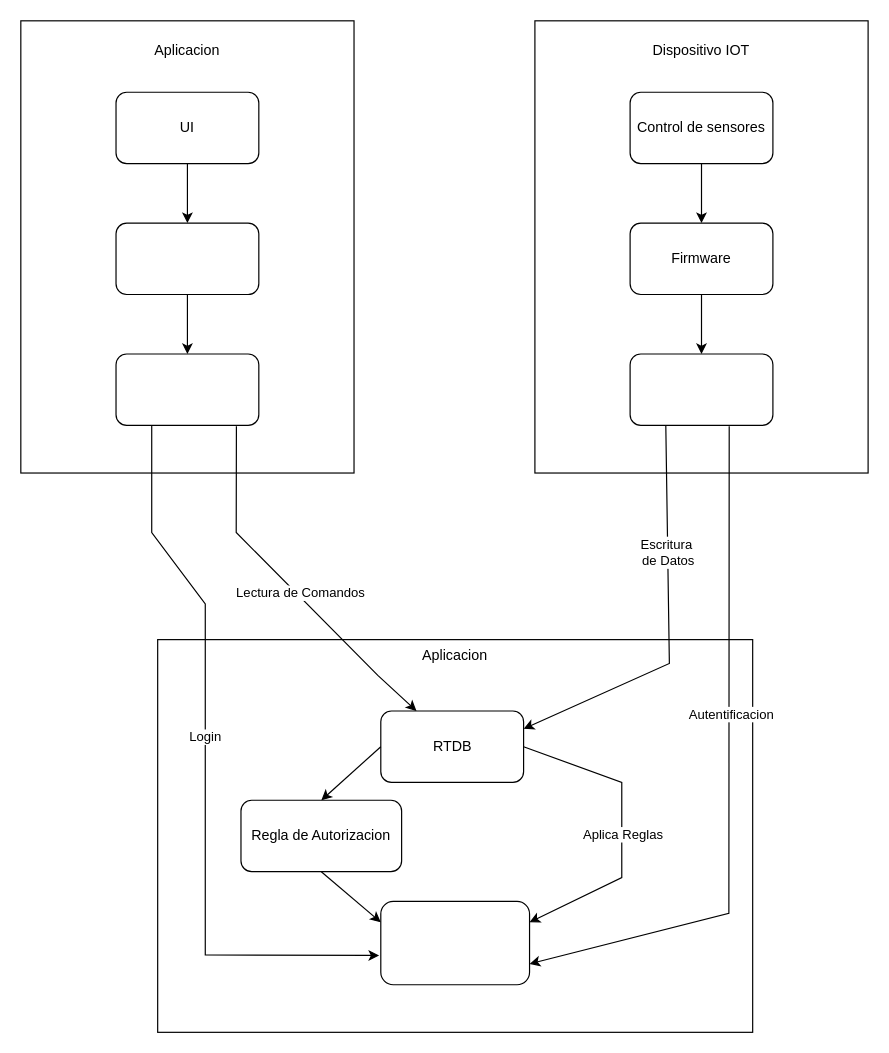
This 889x1053 diagram has some shape labels left out. Each missing label, with the centre of its shape:
Logica Negocio cliente: the point at 187,258
Modulo de comunicacion: the point at 701,389
Servicio Autentificacion: the point at 455,942
Servicio Sincronizacion: the point at 187,389
